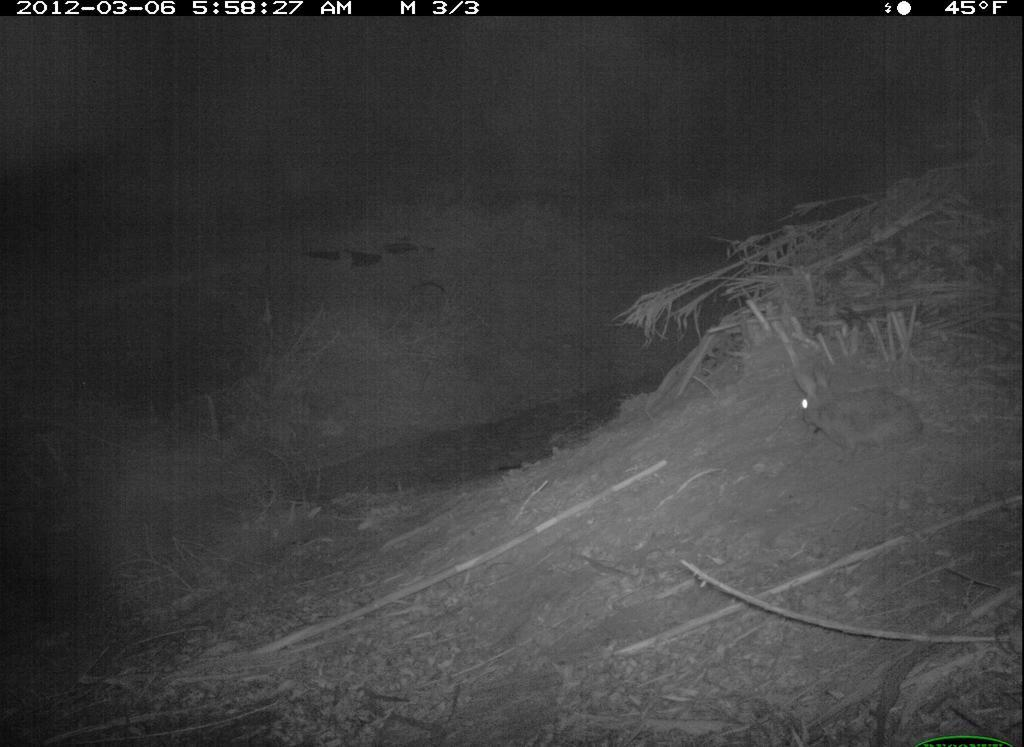rabbit: (785, 353, 930, 468)
